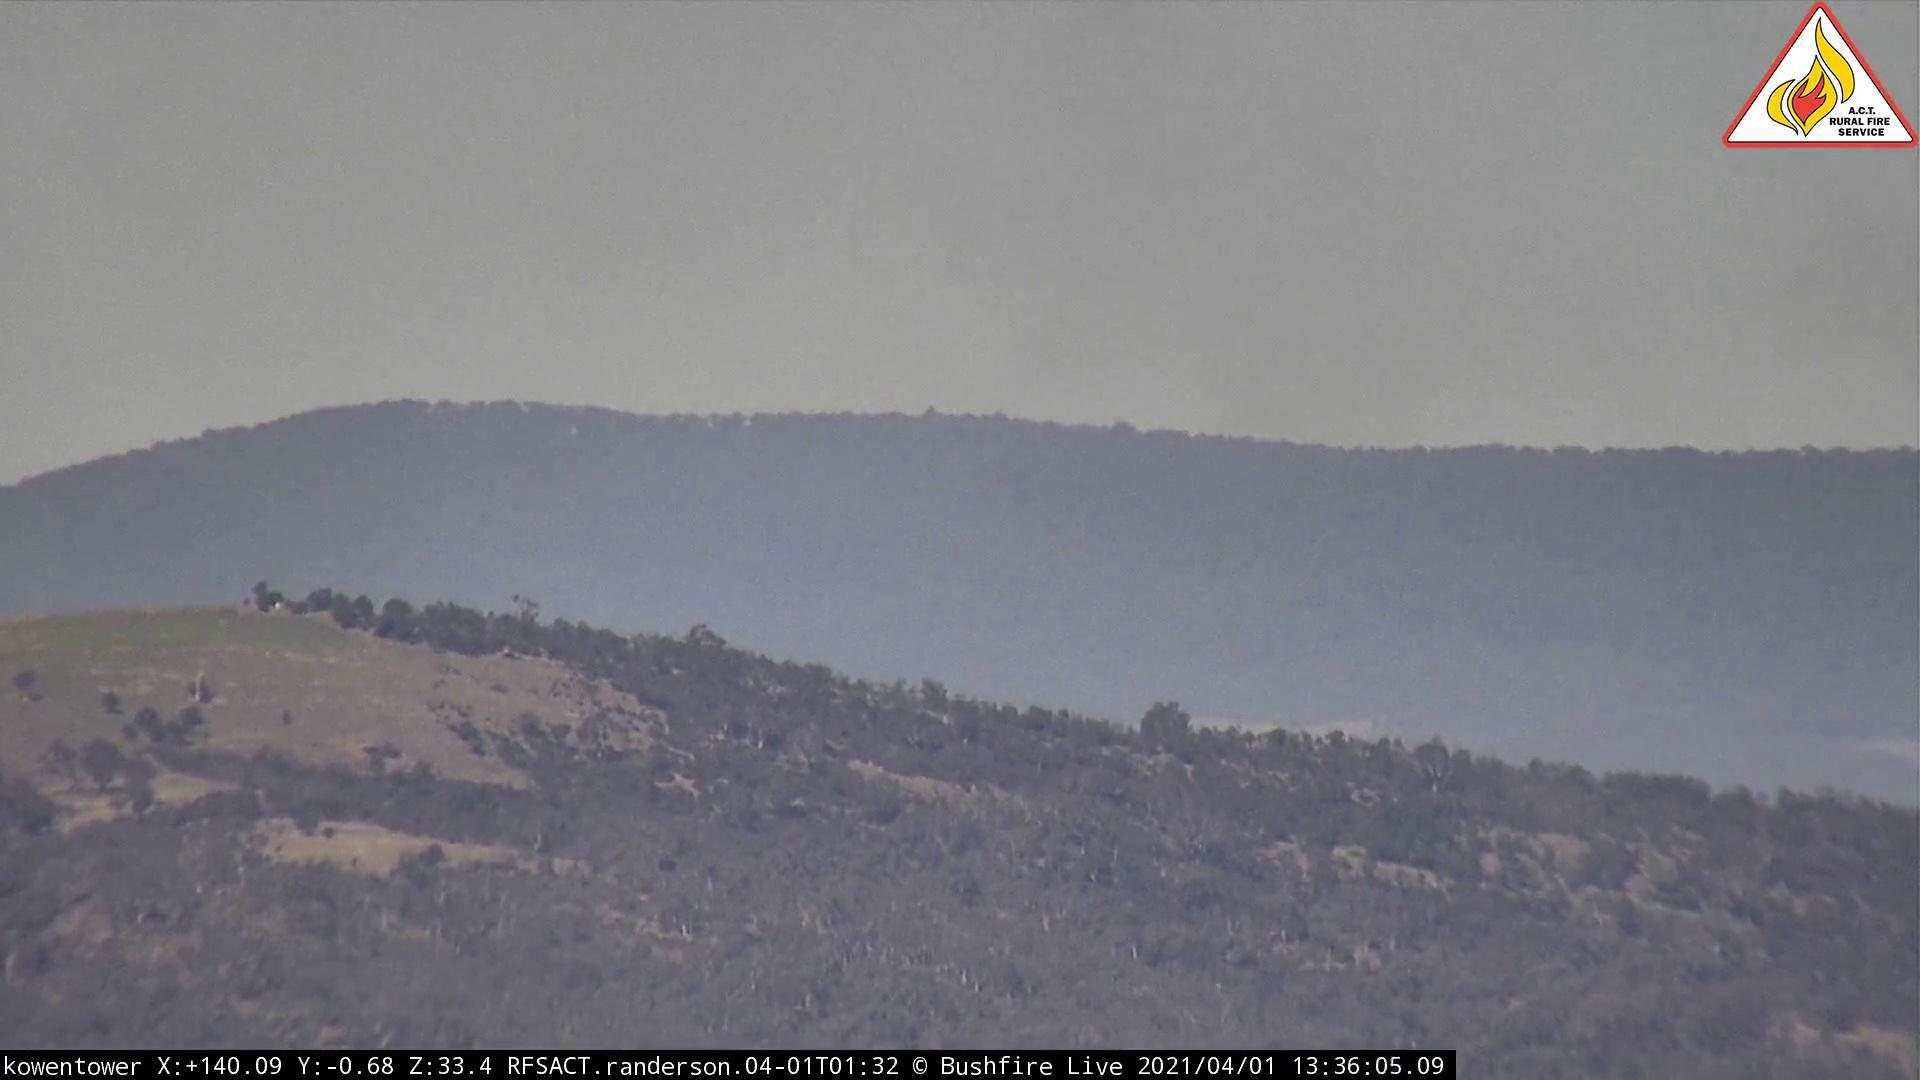Smoke: (936, 92, 1604, 553)
